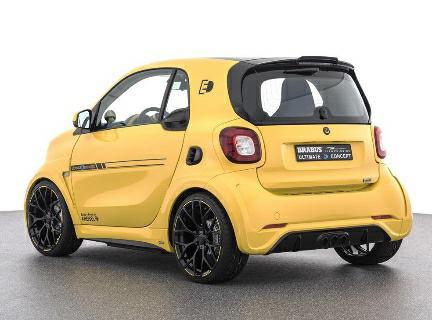巴博斯-smartfortwo: (19, 50, 417, 289)
